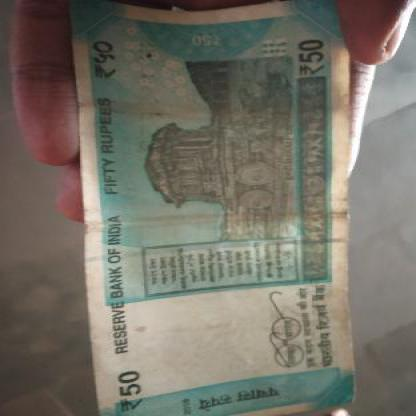New50Back: (73, 1, 359, 415)
